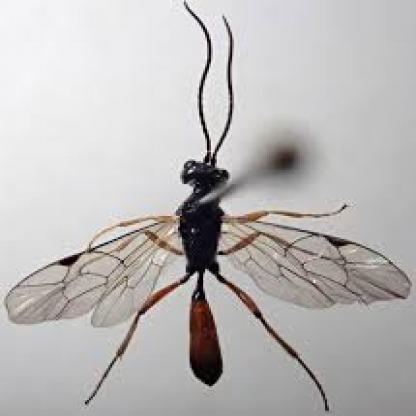sawfly: (5, 0, 416, 415)
